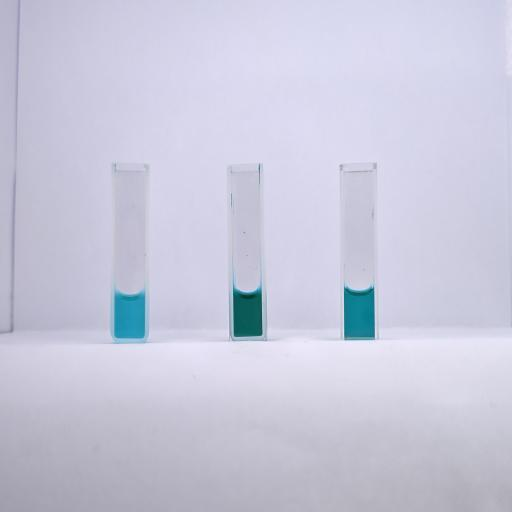cuvette: (223, 163, 271, 342), (107, 161, 152, 345), (337, 160, 380, 342)
liquid: (114, 288, 146, 339), (344, 287, 374, 338), (234, 289, 262, 337)
